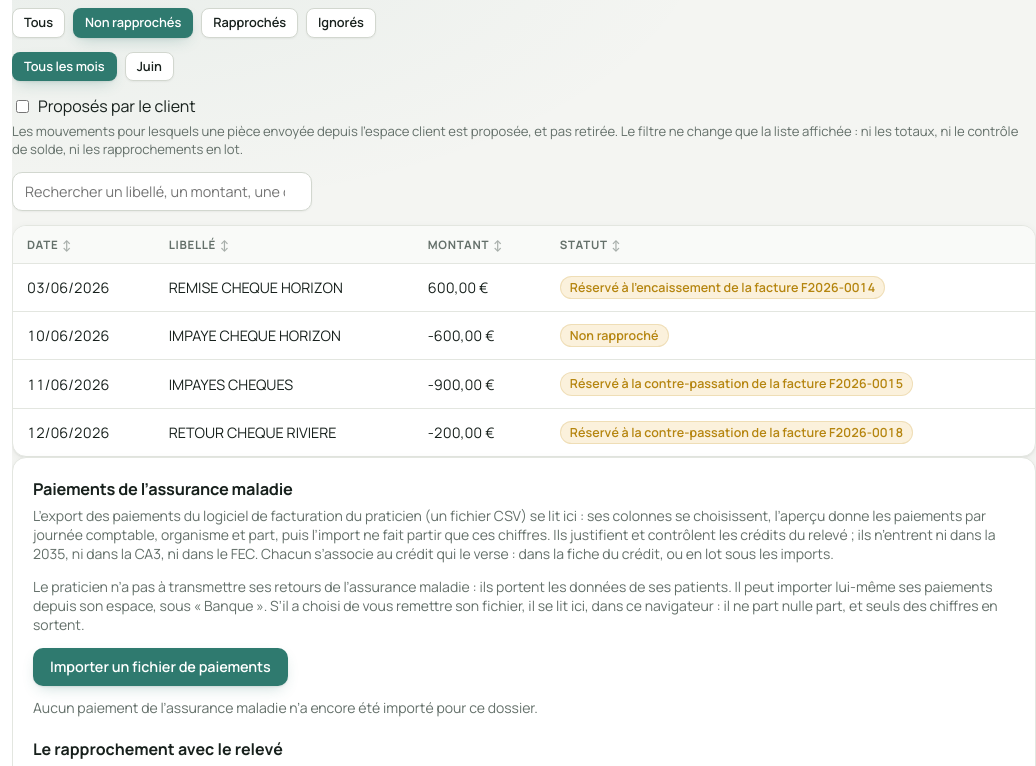
Test: rattacher une contre-passation enregistrée sans mouvement › sur le débit des deux chèques : la contre-passation qui le fait, la confirmation et l’état d’après ; relu, il se classe
(page scrolled)
Click the row that starts with "IMPAYES CHEQUES": x=524, y=384 top-left (13, 360), bottom-right (1035, 408)
(page scrolled)
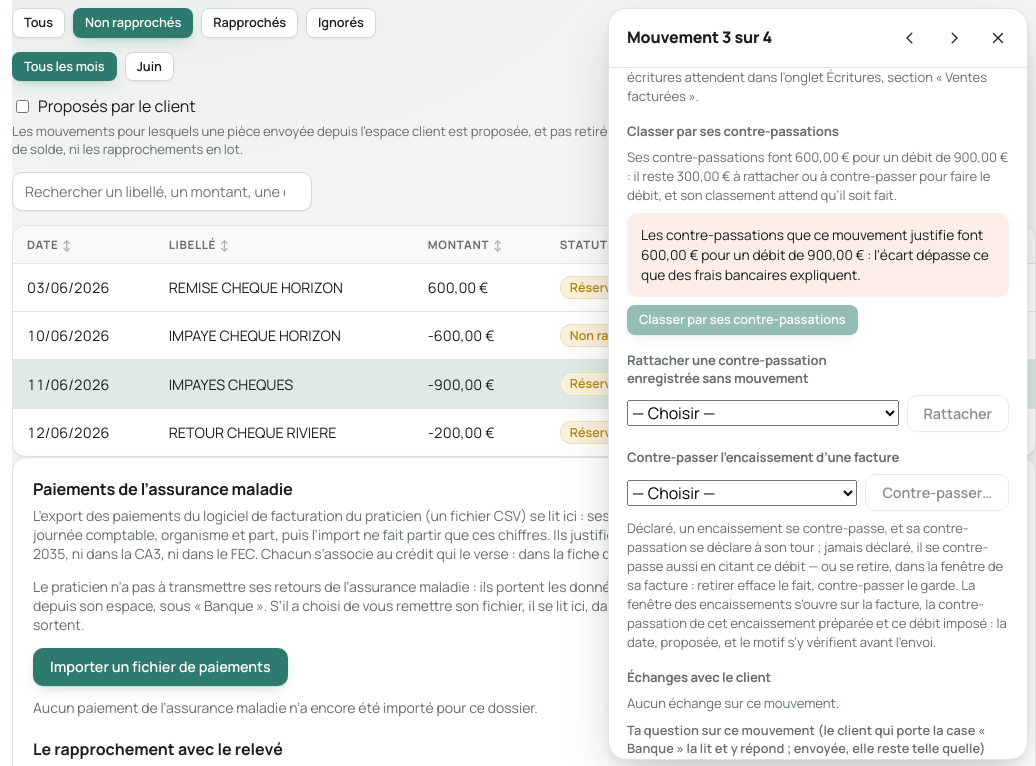
Select "Contre-passation, facture F2026-0017 (Studio Bleu) — chèque du 09/06/2026 · -300" in the dropdown named "Contre-passation à rattacher": x=763, y=413 top-left (627, 400), bottom-right (898, 426)
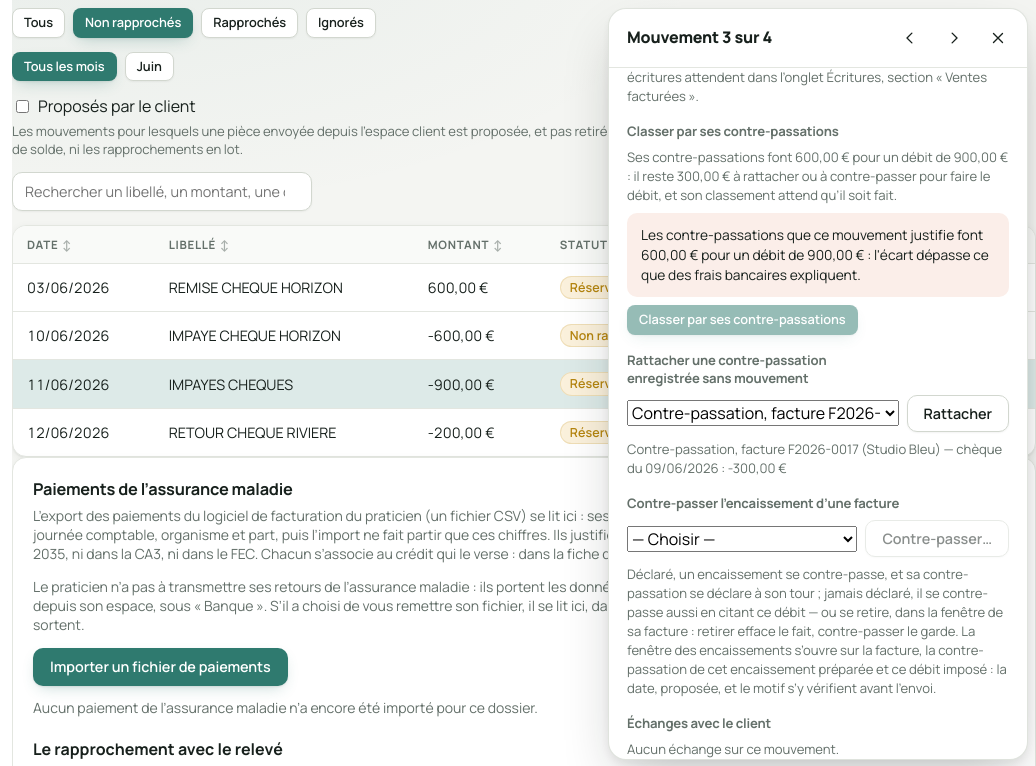
Click the button "Rattacher": x=958, y=413 top-left (906, 395), bottom-right (1009, 432)
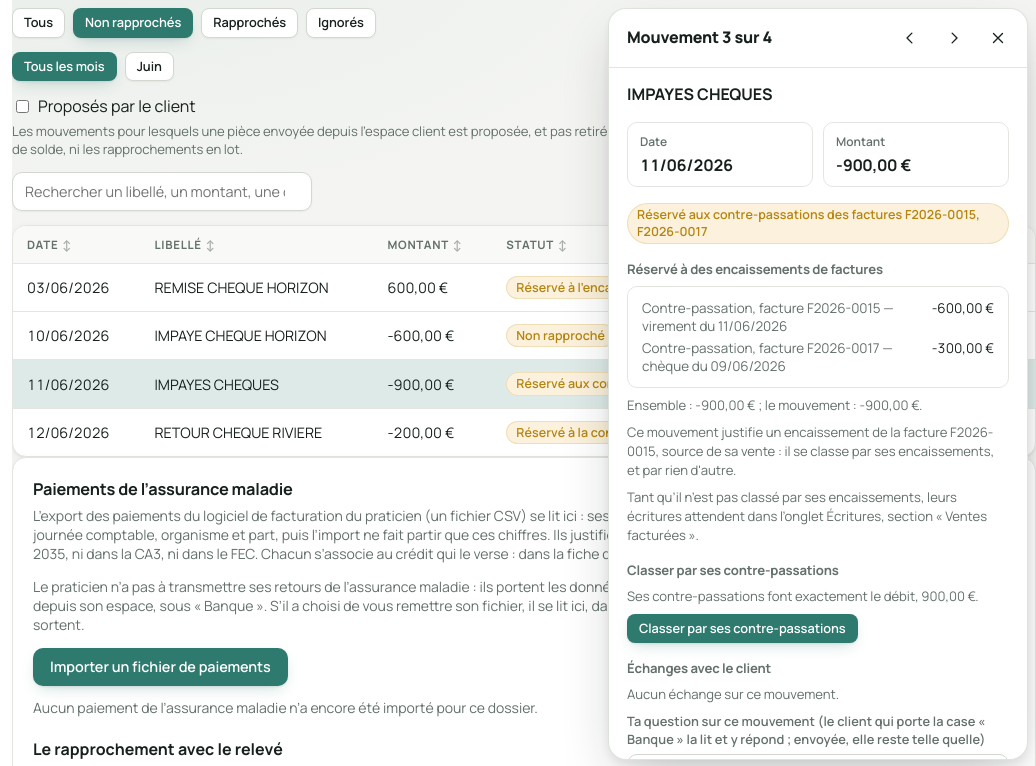
Result: the button "Classer par ses contre-passations" is enabled at top-left (627, 614), bottom-right (858, 643)
Result: the element "Classer par ses contre-passations" shows "Ses contre-passations font exactement le débit, 900,00 €." at top-left (627, 587), bottom-right (979, 605)
